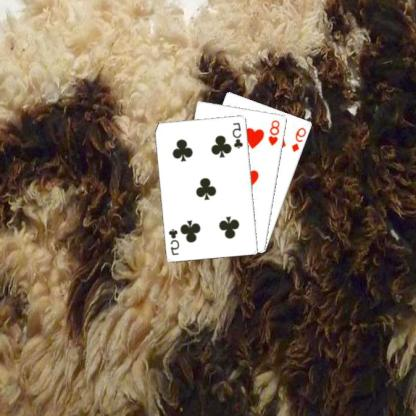5C: (168, 226, 183, 256), (232, 119, 246, 149)
8H: (268, 117, 284, 147)
9D: (291, 125, 309, 153)
